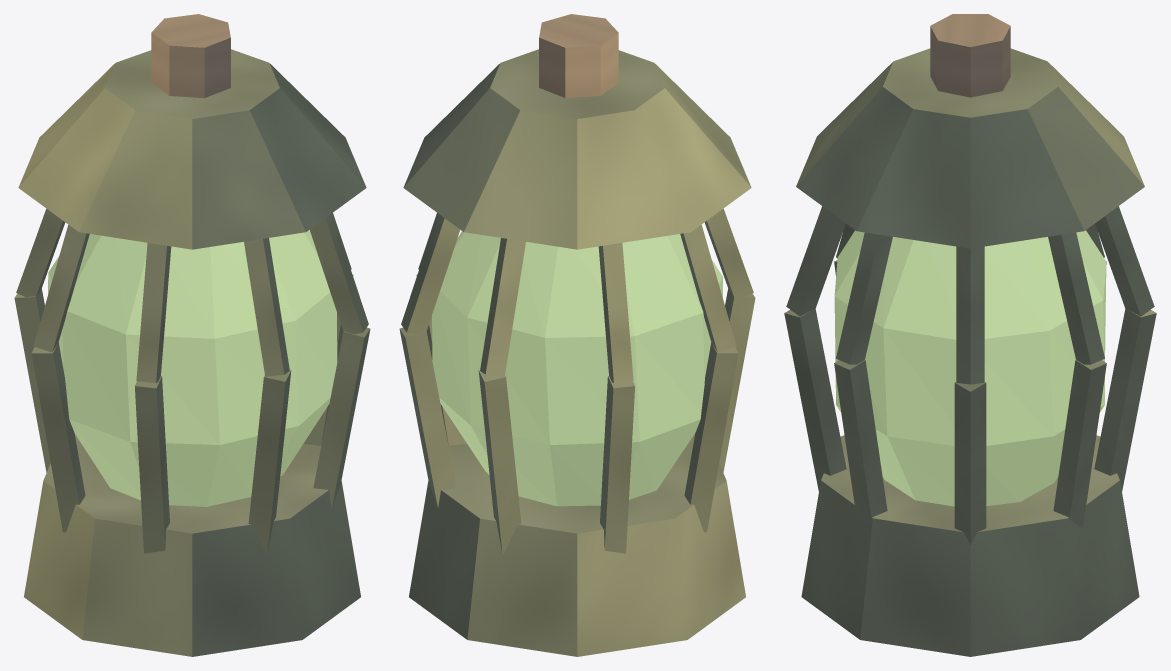
The model's file is watch_green_lit.glb.
3 views of the same model, side by side, from view 1: azimuth 30°, elevation 25°; view 2: azimuth 150°, elevation 25°; view 3: azimuth 270°, elevation 25° (orthographic).
Parts seen in each view (by area): view 1: Wegwachtlaterne.003; view 2: Wegwachtlaterne.003; view 3: Wegwachtlaterne.003.
Boxes of the visible parts, x1=… form: Wegwachtlaterne.003: x1=14, y1=14, x2=370, y2=656; Wegwachtlaterne.003: x1=399, y1=14, x2=755, y2=656; Wegwachtlaterne.003: x1=784, y1=14, x2=1156, y2=656.
Size of the model in its own units: 0.4687 by 0.77 by 0.4687.
3 materials, 2 textured.
